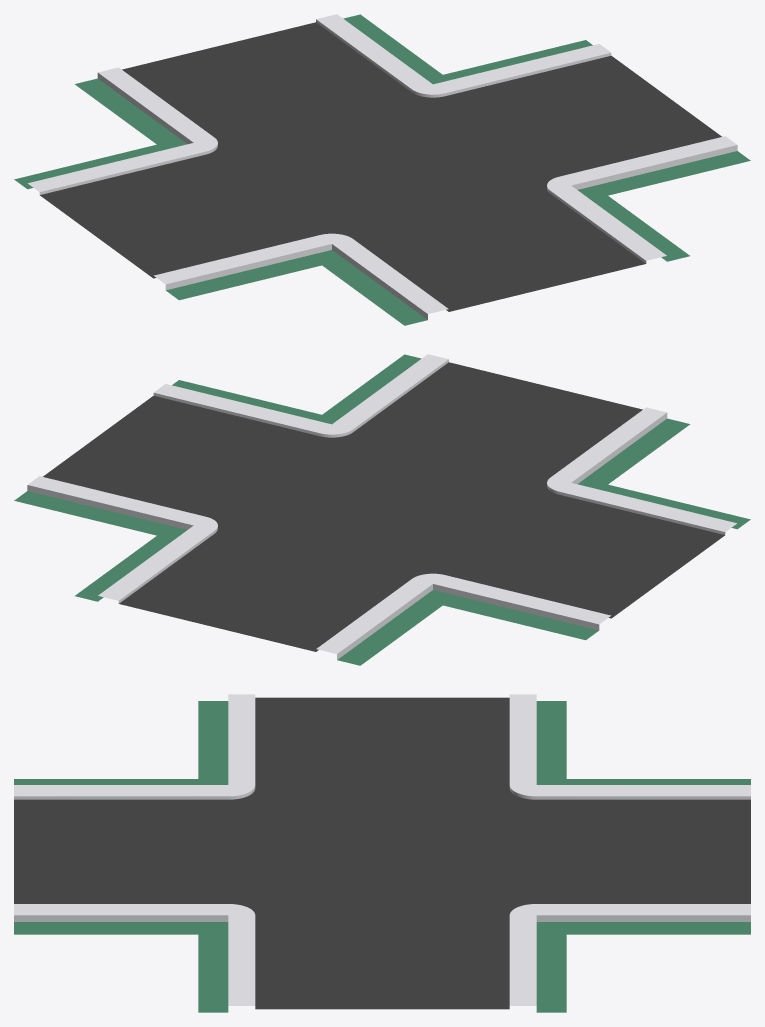
Rendered from roadCrossing.glb.
The picture shows the model from 3 angles, top to bottom: view 1: azimuth 30°, elevation 25°; view 2: azimuth 150°, elevation 25°; view 3: azimuth 270°, elevation 25°; orthographic projection. The views are drawn at different scales.
Visible parts, largest first — view 1: roadCrossing(Clone); view 2: roadCrossing(Clone); view 3: roadCrossing(Clone).
Part boxes in pixels (x1,y1,x2,y2): roadCrossing(Clone): (14, 14, 750, 325); roadCrossing(Clone): (14, 354, 750, 665); roadCrossing(Clone): (14, 694, 750, 1012).
Bounding box in the file's own units: 2 × 0.02 × 2.
